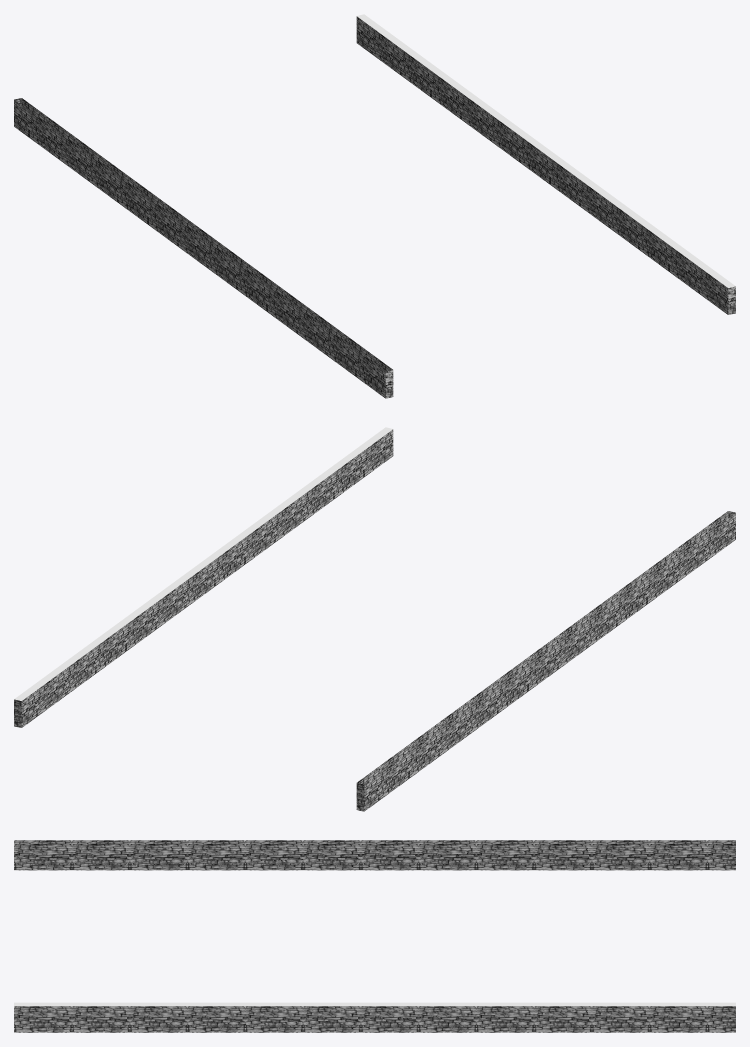
File: FenceSmall.obj
3 views of the same model, one above another, from view 1: azimuth 30°, elevation 25°; view 2: azimuth 150°, elevation 25°; view 3: azimuth 270°, elevation 25° (orthographic). The views are drawn at different scales.
Visible parts, largest first — view 1: Mesh1 Model, Mesh2 Model; view 2: Mesh1 Model, Mesh2 Model; view 3: Mesh1 Model, Mesh2 Model.
Boxes of the visible parts, left/top/right/bottom form: Mesh1 Model: left=14, top=98, right=393, bottom=398; Mesh2 Model: left=356, top=14, right=735, bottom=314; Mesh1 Model: left=356, top=511, right=735, bottom=811; Mesh2 Model: left=14, top=427, right=393, bottom=727; Mesh1 Model: left=14, top=840, right=735, bottom=870; Mesh2 Model: left=14, top=1002, right=735, bottom=1032.
Size of the model in its own units: 136 by 10 by 250.
3 materials, 2 textured.
